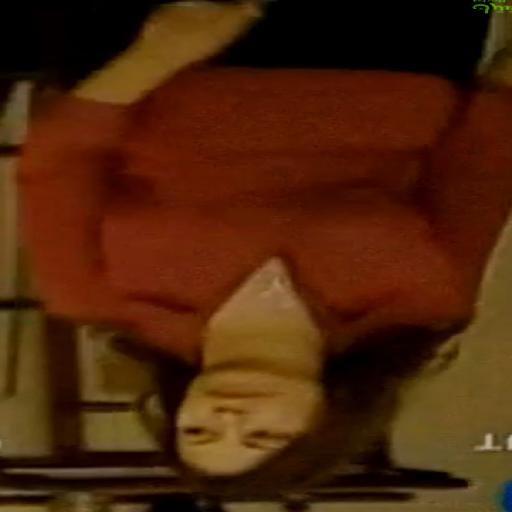zeineb: (169, 365, 323, 473)
